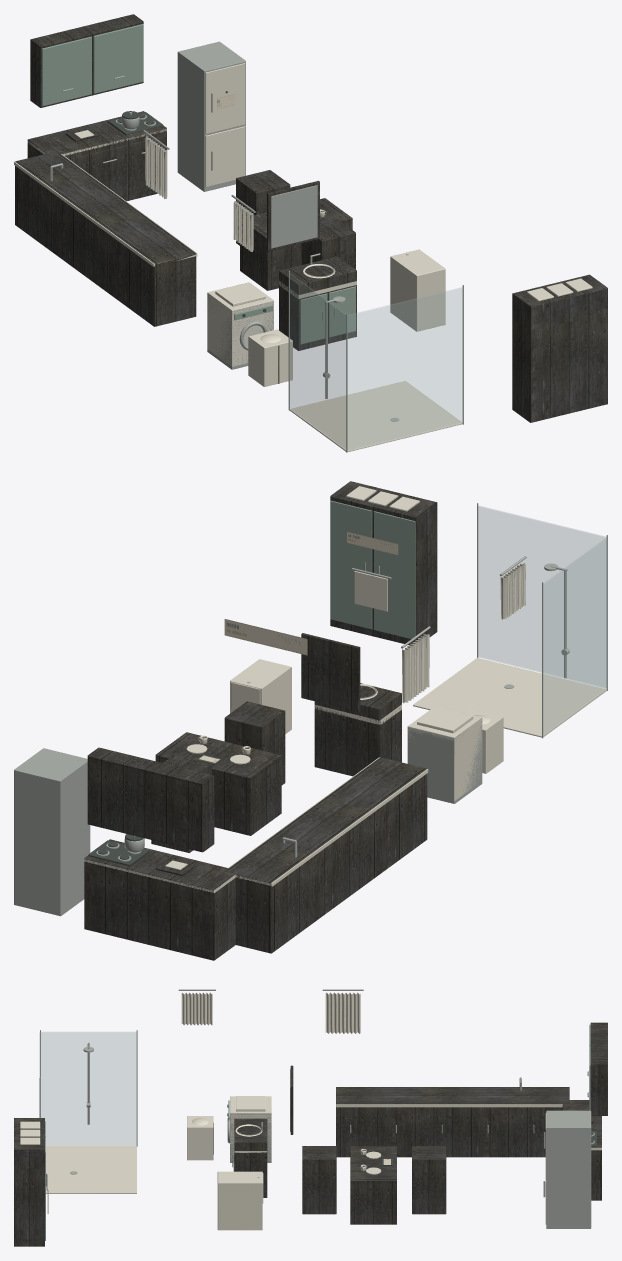
The model's file is home-gallery-fittings.glb.
3 views of the same model, one above another, from view 1: azimuth 30°, elevation 25°; view 2: azimuth 150°, elevation 25°; view 3: azimuth 270°, elevation 25° (orthographic). The views are drawn at different scales.
Visible parts, largest first — view 1: home-far-0, home-core-6, home-core-2, home-core-1, home-core-0, home-far-3, home-core-3, home-far-2, home-core-4, home-far-4, home-core-5; view 2: home-far-0, home-core-6, home-core-0, home-far-3, home-core-2, home-core-1, home-core-4, home-core-3, home-far-2, home-core-7, home-far-4, home-core-5; view 3: home-far-0, home-core-6, home-core-2, home-core-0, home-far-3, home-core-4, home-far-2, home-far-4, home-core-3, home-core-1.
Part boxes in pixels (<box>): home-far-0: <box>15,22,607,422</box>; home-core-6: <box>244,273,462,450</box>; home-core-2: <box>14,63,462,451</box>; home-core-1: <box>41,24,355,344</box>; home-core-0: <box>30,14,529,416</box>; home-far-3: <box>177,41,273,369</box>; home-core-3: <box>50,112,463,452</box>; home-far-2: <box>390,249,445,331</box>; home-core-4: <box>145,136,592,342</box>; home-far-4: <box>248,329,292,386</box>; home-core-5: <box>108,111,163,134</box>; home-far-0: <box>84,481,437,960</box>; home-core-6: <box>478,506,607,735</box>; home-core-0: <box>87,506,436,875</box>; home-far-3: <box>14,721,482,916</box>; home-core-2: <box>84,657,606,893</box>; home-core-1: <box>330,500,415,639</box>; home-core-4: <box>346,486,525,733</box>; home-core-3: <box>96,503,607,861</box>; home-far-2: <box>230,659,291,733</box>; home-core-7: <box>199,531,398,762</box>; home-far-4: <box>466,709,503,773</box>; home-core-5: <box>88,754,221,866</box>; home-far-0: <box>14,1087,601,1246</box>; home-core-6: <box>39,1032,136,1145</box>; home-core-2: <box>46,1096,601,1224</box>; home-core-0: <box>15,1022,607,1242</box>; home-far-3: <box>230,1101,591,1228</box>; home-core-4: <box>20,992,360,1213</box>; home-far-2: <box>217,1171,262,1230</box>; home-far-4: <box>187,1116,213,1160</box>; home-core-3: <box>39,989,594,1190</box>; home-core-1: <box>45,1024,590,1240</box>.
Bounding box in the file's own units: 4.06 × 2.71 × 9.53.
Materials: 8 (2 with a texture image).
